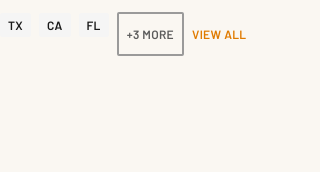
Test: RegionBadges › Basic Rendering › should expand to show all regions when "View All" clicked
This screenshot has width=320, height=172.
Expected: the text "OH" is not shown
Click the button "View All": {"x": 219, "y": 34} [192, 12, 246, 56]
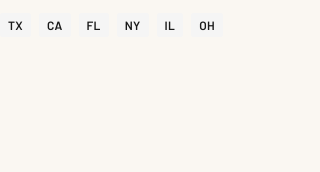
Expected: the text "OH" is shown, [191, 13, 223, 37]
